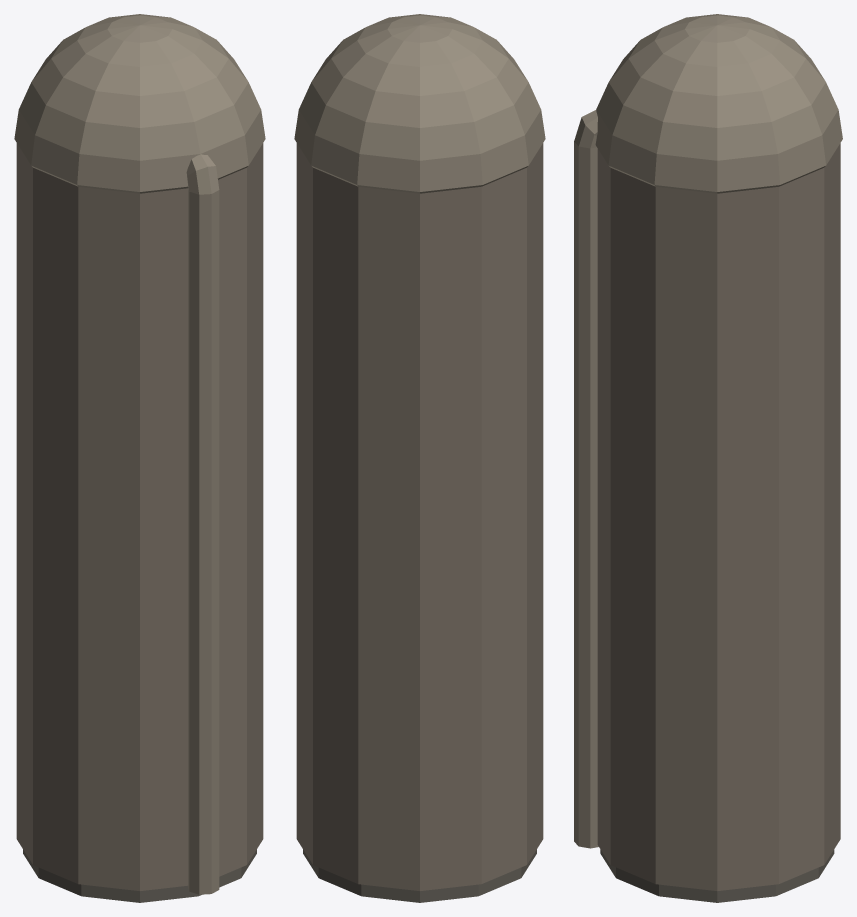
The model's file is SM_Bld_Silo_02.glb.
3 renders of one model, left to right at view 1: azimuth 30°, elevation 25°; view 2: azimuth 150°, elevation 25°; view 3: azimuth 270°, elevation 25°, orthographic.
Visible parts, largest first — view 1: SM_Bld_Silo_02; view 2: SM_Bld_Silo_02; view 3: SM_Bld_Silo_02.
Boxes of the visible parts, x1=… form: SM_Bld_Silo_02: x1=14, y1=14, x2=265, y2=902; SM_Bld_Silo_02: x1=294, y1=14, x2=545, y2=902; SM_Bld_Silo_02: x1=574, y1=14, x2=842, y2=902.
Bounding box in the file's own units: 5.11 × 18.59 × 5.47.
Materials: 1 (1 with a texture image).
